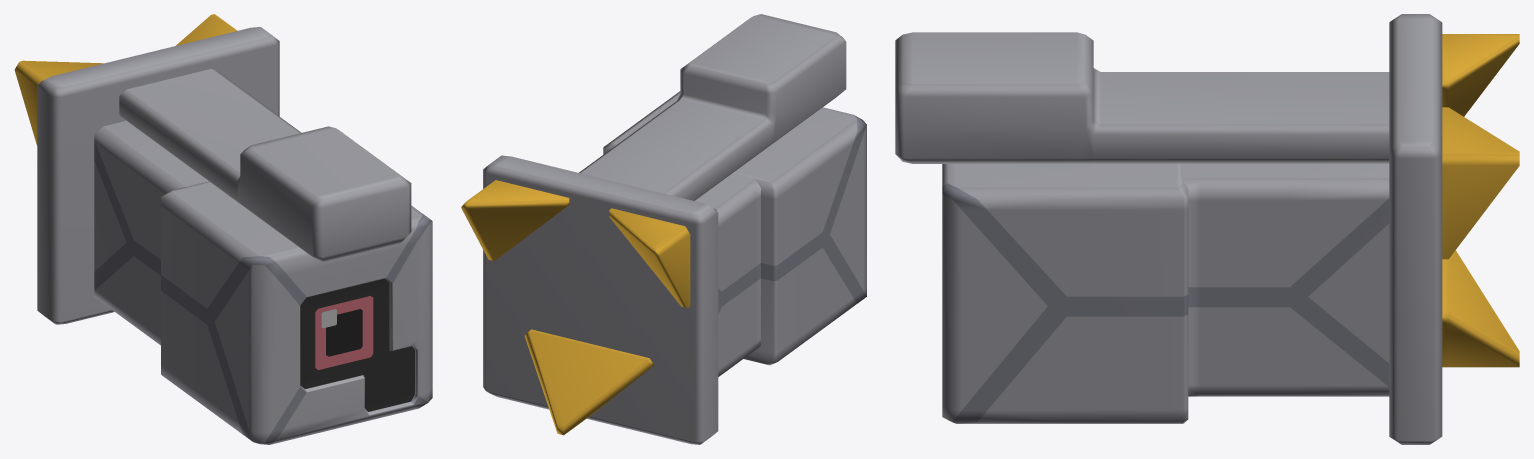
3 views of the same model, side by side, from view 1: azimuth 30°, elevation 25°; view 2: azimuth 150°, elevation 25°; view 3: azimuth 270°, elevation 25° (orthographic). The views are drawn at different scales.
Parts seen in each view (by area): view 1: model; view 2: model; view 3: model.
Part boxes in pixels (x1,y1,x2,y2): model: (14, 14, 432, 444); model: (461, 14, 866, 444); model: (895, 14, 1519, 444).
Size of the model in its own units: 1.18 by 1.26 by 2.22.
